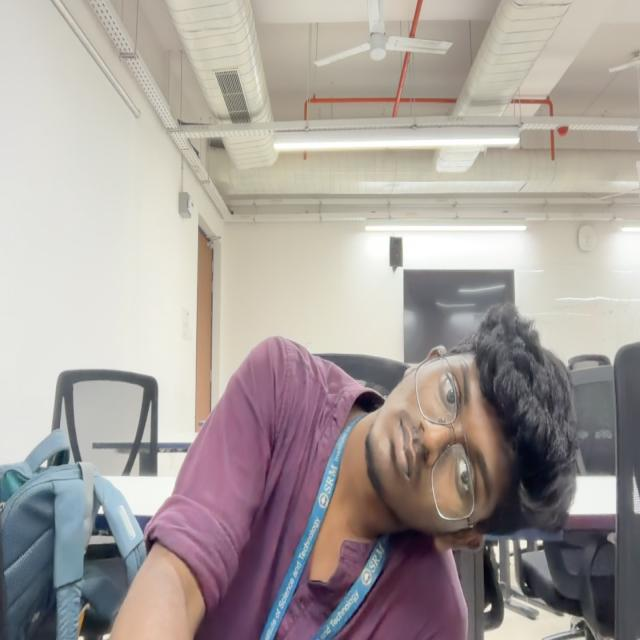ravindra: (366, 302, 574, 555)
